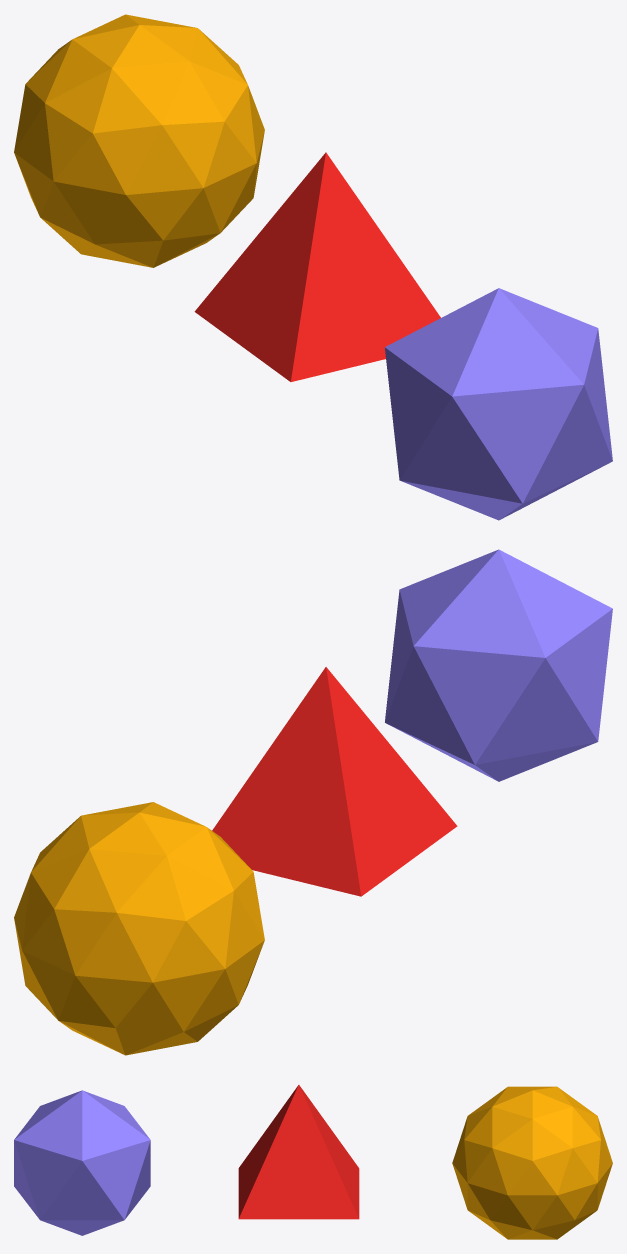
The picture shows the model from 3 angles, top to bottom: view 1: azimuth 30°, elevation 25°; view 2: azimuth 150°, elevation 25°; view 3: azimuth 270°, elevation 25°; orthographic projection. The views are drawn at different scales.
Visible parts, largest first — view 1: Orange, Purple, Red; view 2: Orange, Purple, Red; view 3: Orange, Purple, Red.
Boxes of the visible parts, box(x1,y1,x2,y2) form: Orange: box(14, 14, 264, 267); Purple: box(385, 288, 612, 520); Red: box(194, 152, 440, 381); Orange: box(14, 802, 264, 1055); Purple: box(385, 549, 612, 781); Red: box(212, 667, 457, 896); Orange: box(452, 1086, 612, 1239); Purple: box(14, 1090, 150, 1235); Red: box(238, 1085, 359, 1219).
Bounding box in the file's own units: 1.9 × 7.45 × 2.08.
